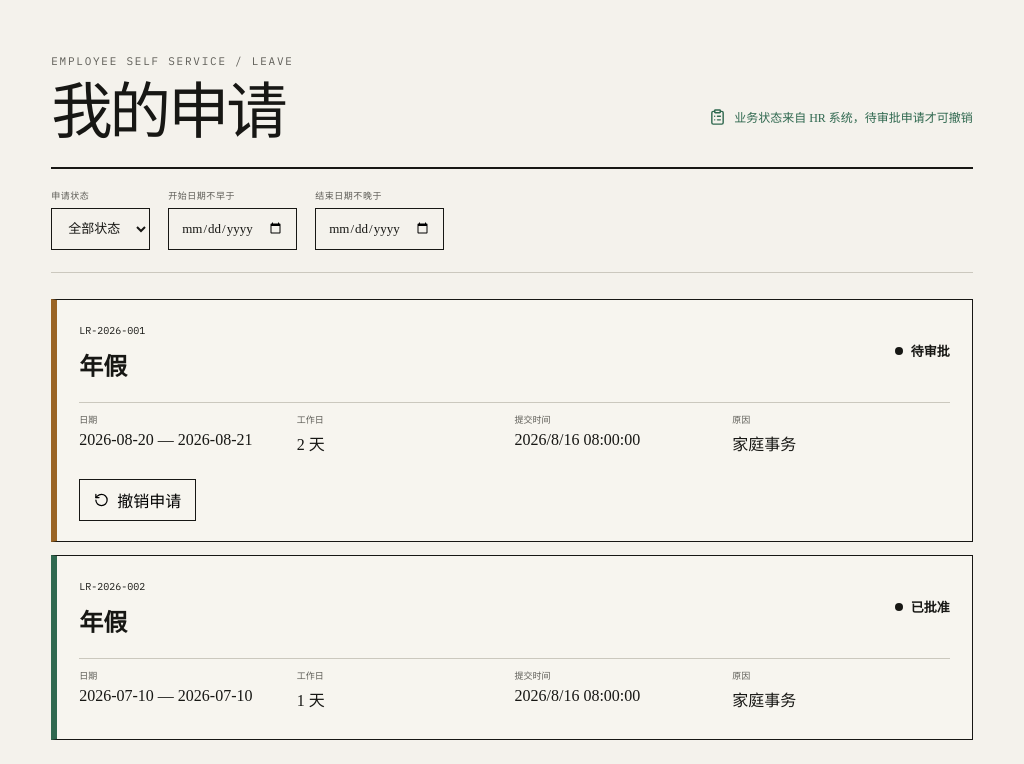
Test: my leave requests › does not offer repeated cancellation after a deterministic execution failure
The width and height of the screenshot is (1024, 764).
Click the button with aria-label "撤销 LR-2026-001": [138, 500] box [79,479,196,521]
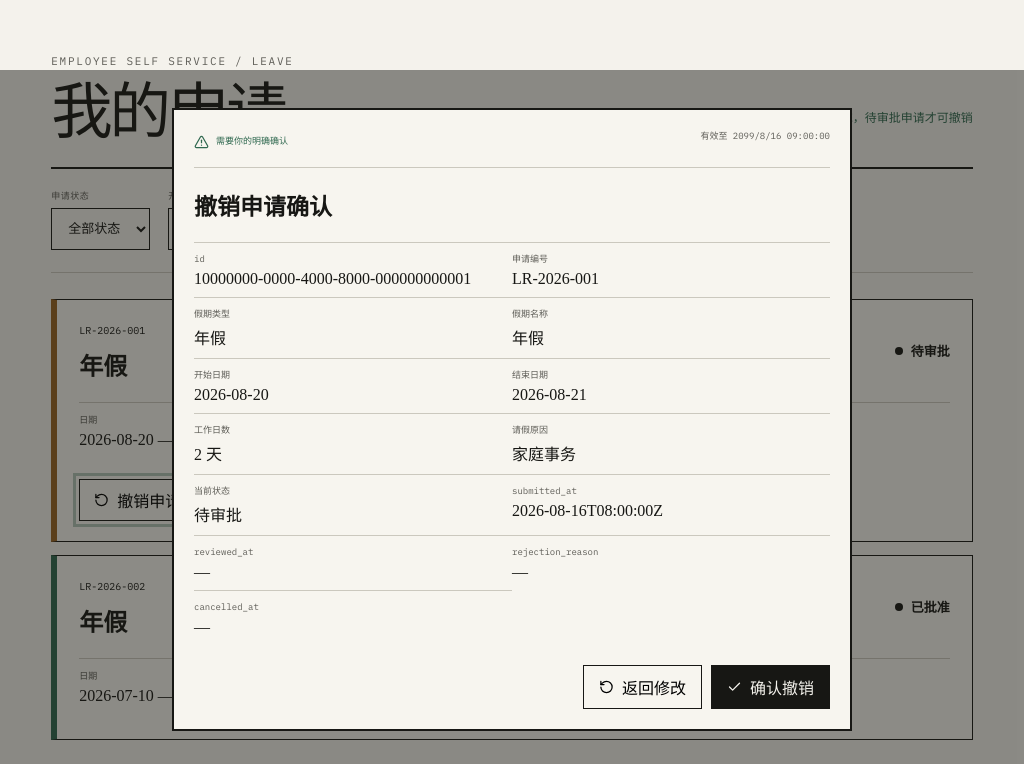
Click the button "确认撤销": [770, 686] box [711,664,830,708]
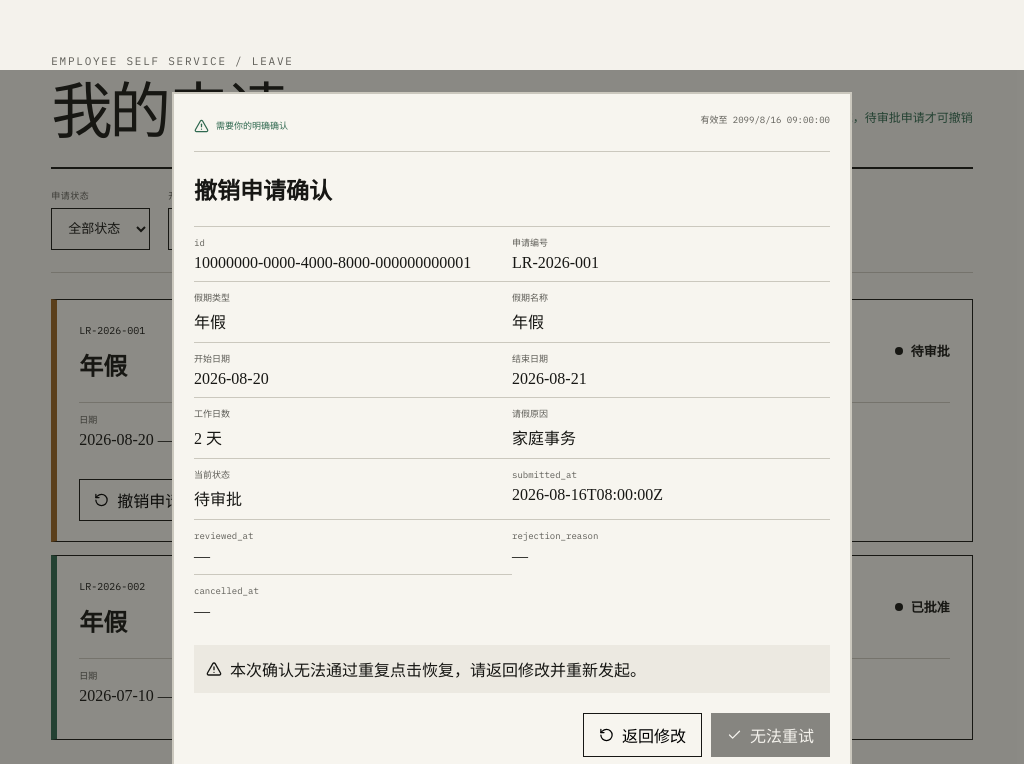
Check: the button "返回修改" is enabled, box [583,713,702,757]
Check: the text "本次确认无法通过重复点击恢复，请返回修改并重新发起。" is shown, box [194,645,830,693]
Check: the button "无法重试" is disabled, box [711,713,830,757]
